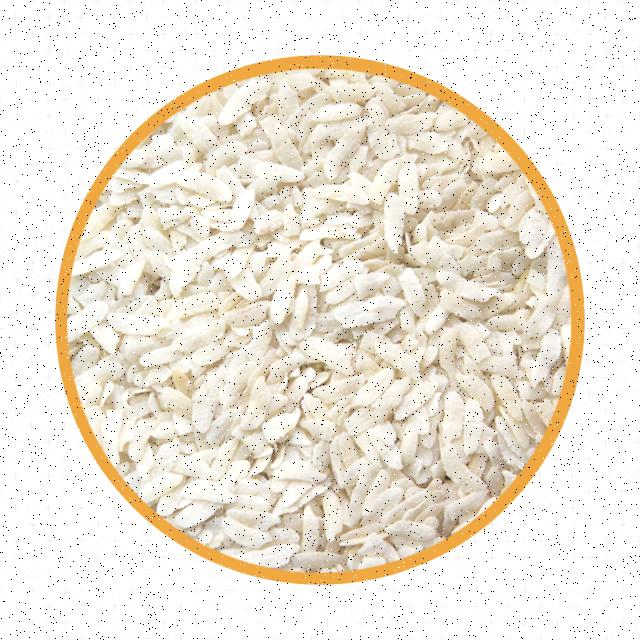Beaten Rice: (176, 199, 487, 486)
